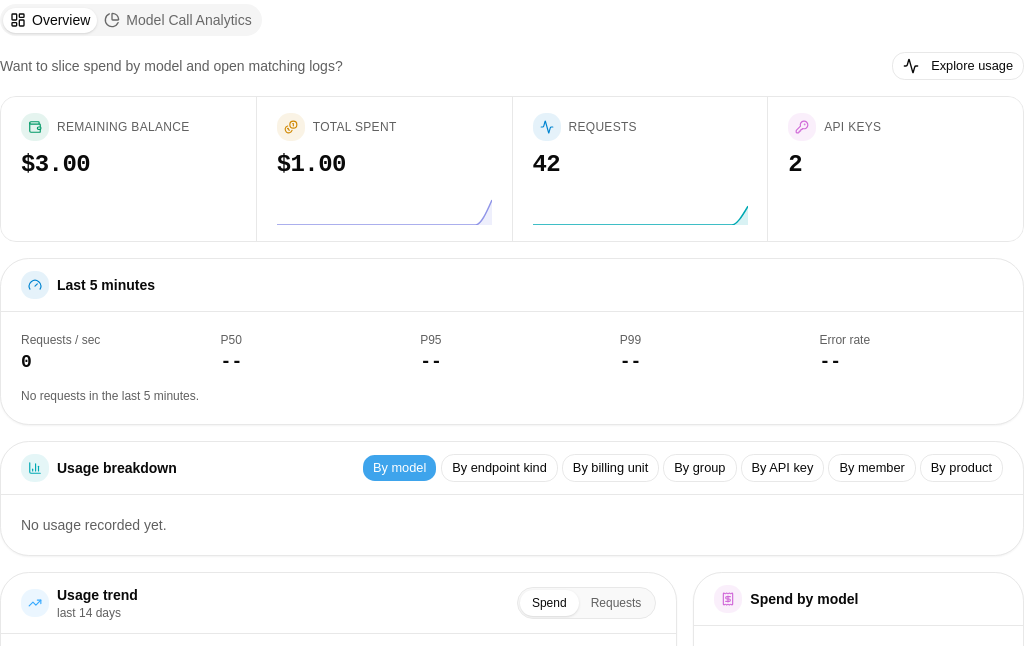
Test case: DashboardPage › the models tab loads its charts on demand
expect the element with test id "dashboard-live" is shown: met, box [0,258,1023,425]
Click the tab with test id "dashboard-tab-models".
click(178, 20)  # box [97,8,259,32]
(page scrolled)
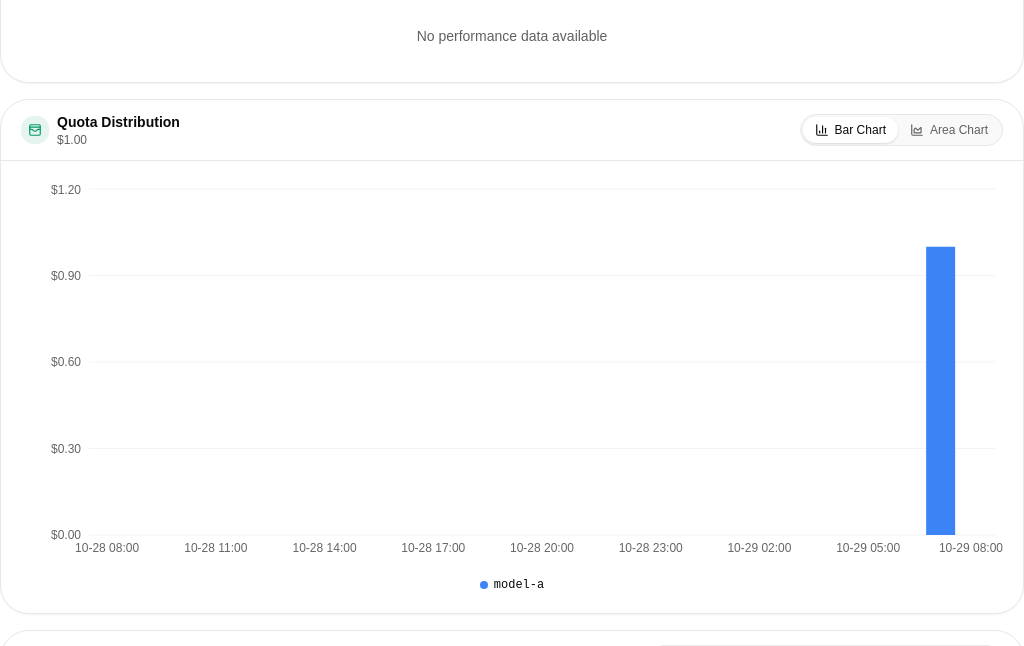
expect the element with test id "dashboard-consumption" is shown: met
expect the element with test id "kpi-balance" is gone: met
